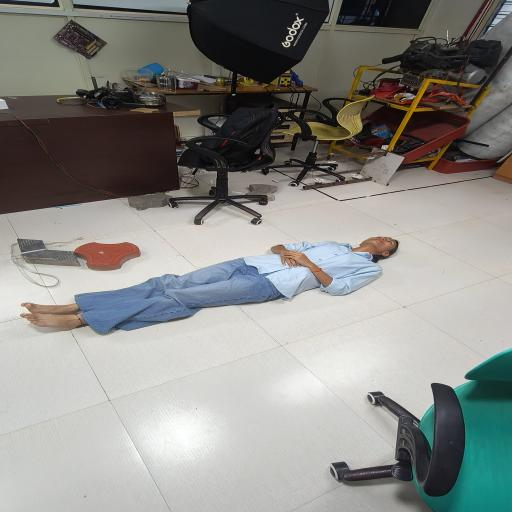survivor: (20, 236, 402, 335)
